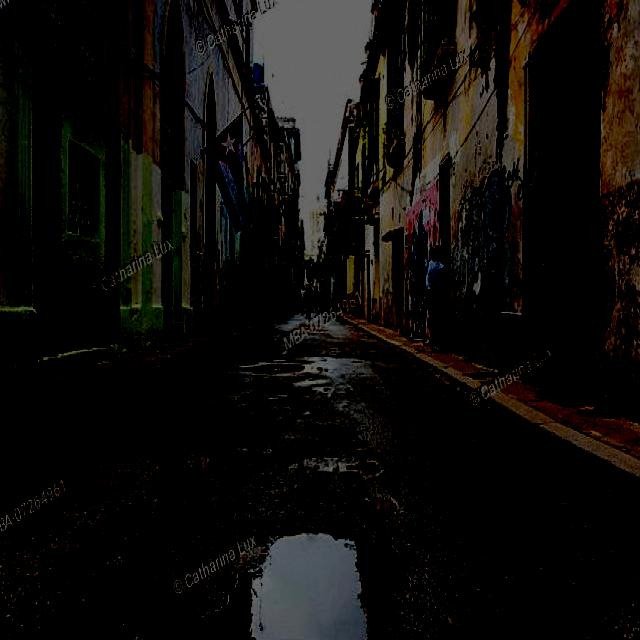Pothole: (138, 355, 418, 640)
